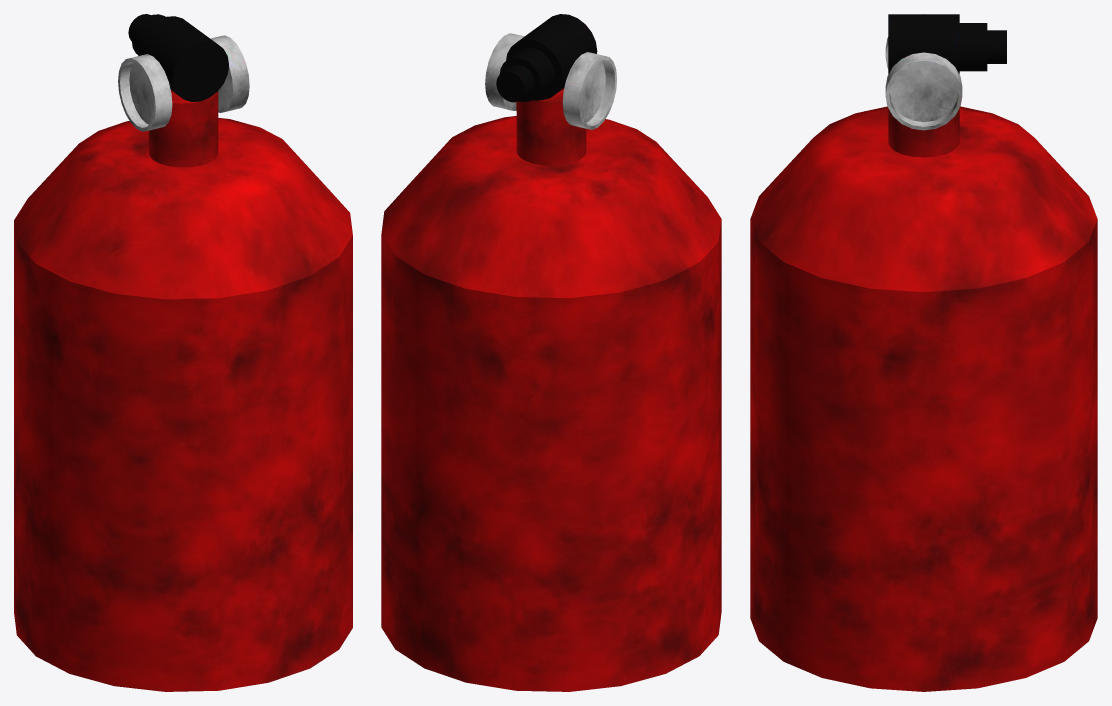
Rendered from Extintor.fbx.
3 renders of one model, left to right at view 1: azimuth 30°, elevation 25°; view 2: azimuth 150°, elevation 25°; view 3: azimuth 270°, elevation 25°, orthographic.
Parts seen in each view (by area): view 1: pCylinder4; view 2: pCylinder4; view 3: pCylinder4.
Part boxes in pixels (x1,y1,x2,y2): pCylinder4: (14,14,352,691); pCylinder4: (381,14,721,691); pCylinder4: (750,14,1097,691).
Size of the model in its own units: 2 by 3.82 by 2.
1 material, 1 textured.
